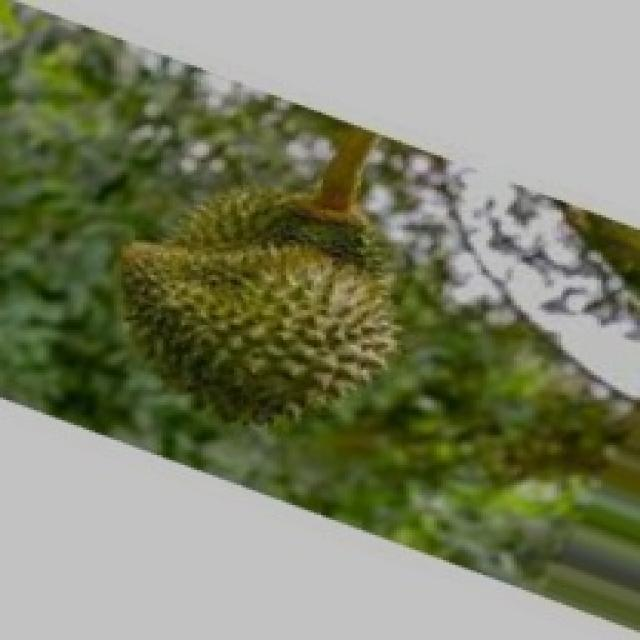fruit: (71, 147, 446, 485)
